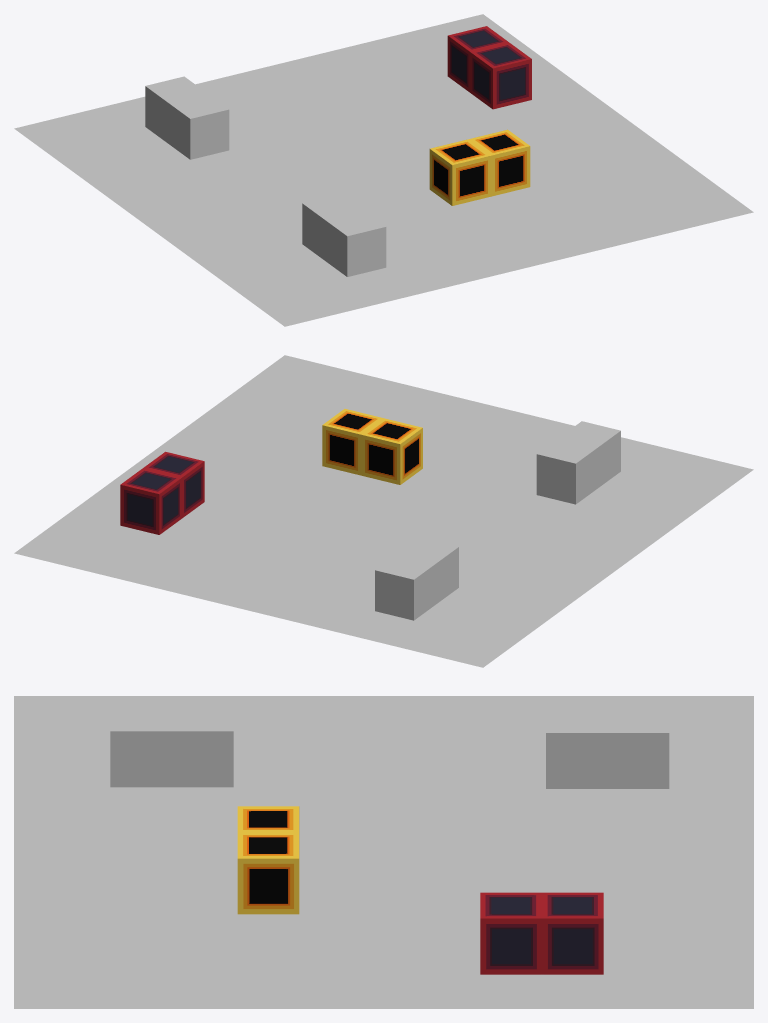
Rendered from sbattle1.dae.
3 views of the same model, one above another, from view 1: azimuth 30°, elevation 25°; view 2: azimuth 150°, elevation 25°; view 3: azimuth 270°, elevation 25° (orthographic). The views are drawn at different scales.
Parts seen in each view (by area): view 1: plane, yellow.002, blue.001, green.002, blue.003, yellow.001, blue.004, blue.002, green.001; view 2: plane, blue.002, yellow.002, green.001, blue.004, yellow.001, blue.003, green.002, blue.001; view 3: plane, yellow.001, green.001, blue.001, blue.002, blue.003, blue.004, green.002, yellow.002.
Boxes of the visible parts, x1,y1,x2,y2 form: plane: [14, 14, 753, 326]; yellow.002: [429, 139, 491, 205]; blue.001: [324, 210, 386, 276]; green.002: [167, 93, 229, 159]; blue.003: [470, 42, 531, 109]; yellow.001: [469, 129, 530, 196]; blue.004: [447, 26, 508, 92]; blue.002: [302, 194, 363, 260]; green.001: [145, 76, 206, 142]; plane: [14, 355, 753, 667]; blue.002: [536, 437, 598, 504]; yellow.002: [361, 418, 422, 484]; green.001: [375, 553, 436, 620]; blue.004: [120, 468, 181, 534]; yellow.001: [322, 409, 383, 475]; blue.003: [143, 451, 204, 518]; green.002: [398, 537, 458, 603]; blue.001: [560, 421, 620, 487]; plane: [14, 696, 753, 1008]; yellow.001: [237, 832, 299, 914]; green.001: [607, 707, 669, 788]; blue.001: [110, 705, 171, 787]; blue.002: [172, 705, 233, 787]; blue.003: [480, 892, 541, 974]; blue.004: [542, 892, 603, 974]; green.002: [546, 707, 607, 788]; yellow.002: [237, 806, 299, 832].
Size of the model in its own units: 3 by 3 by 0.25.
